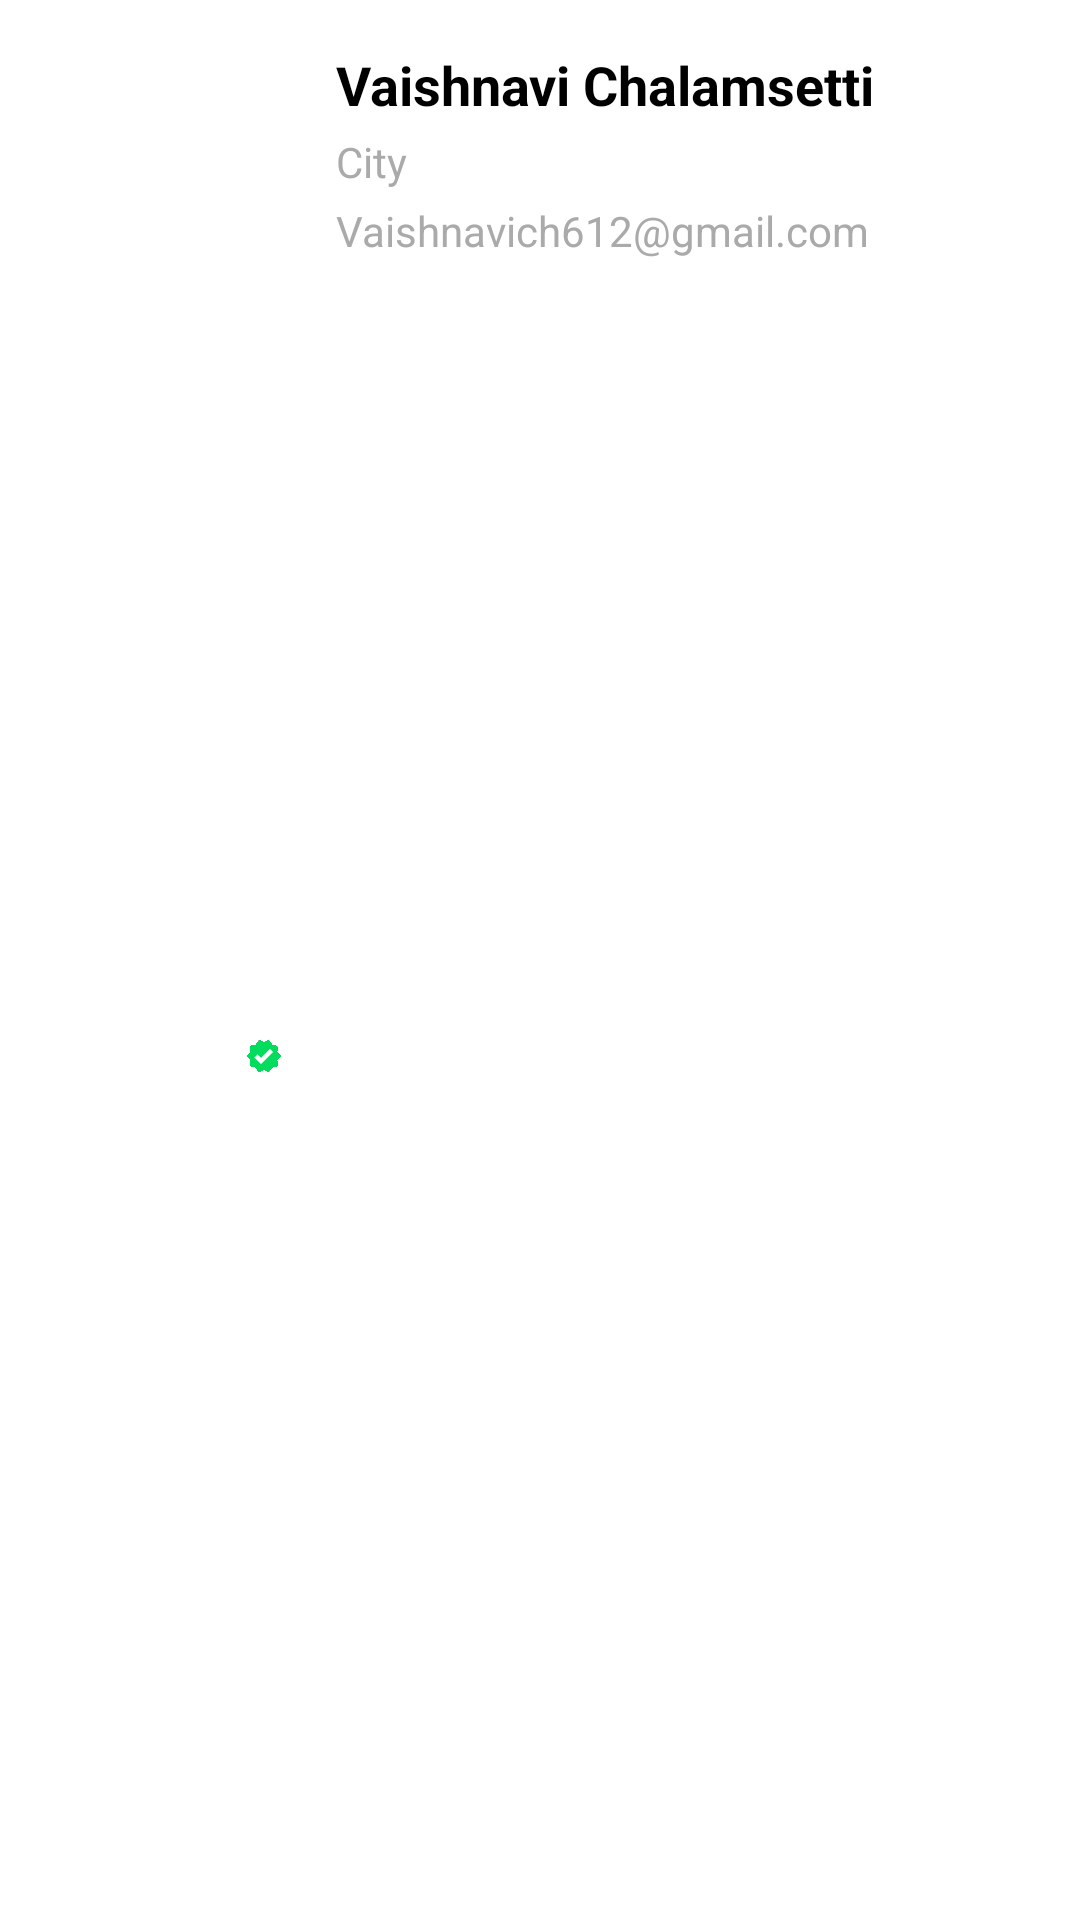

Icons on this 1080px x 1920px Android screen, each with its box as (x1, y1, x2, y2):
verified: (247, 1040, 281, 1072)
